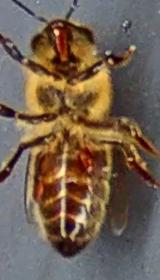varroa_mite: (57, 141, 101, 179), (28, 169, 48, 205)
